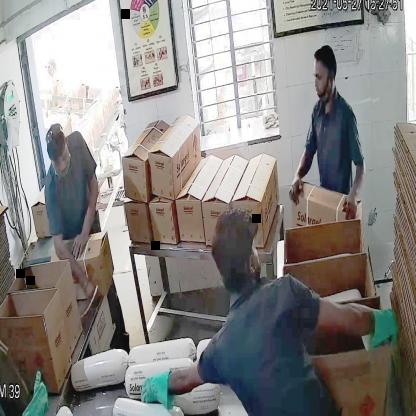no_goggles: (308, 66, 335, 86), (49, 149, 72, 170)
